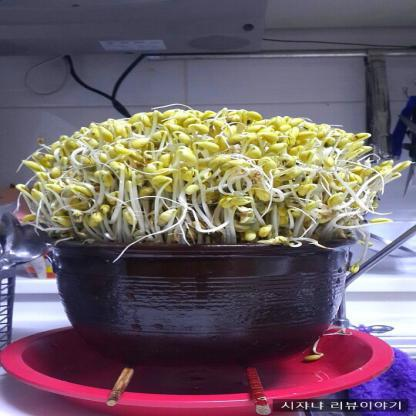bean sprouts: (13, 105, 401, 233)
